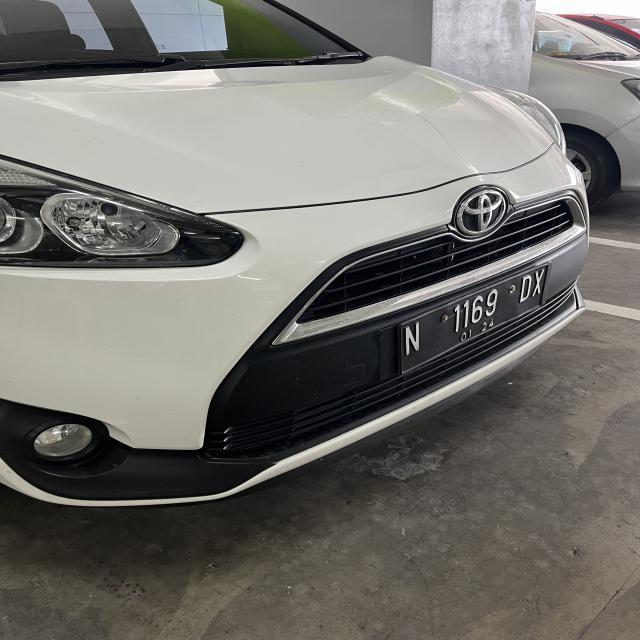1: (454, 304, 459, 335), (463, 299, 468, 327)
6: (471, 296, 484, 324)
9: (486, 292, 496, 316)
D: (519, 276, 532, 302)
N: (403, 326, 426, 352)
X: (534, 268, 544, 300)
